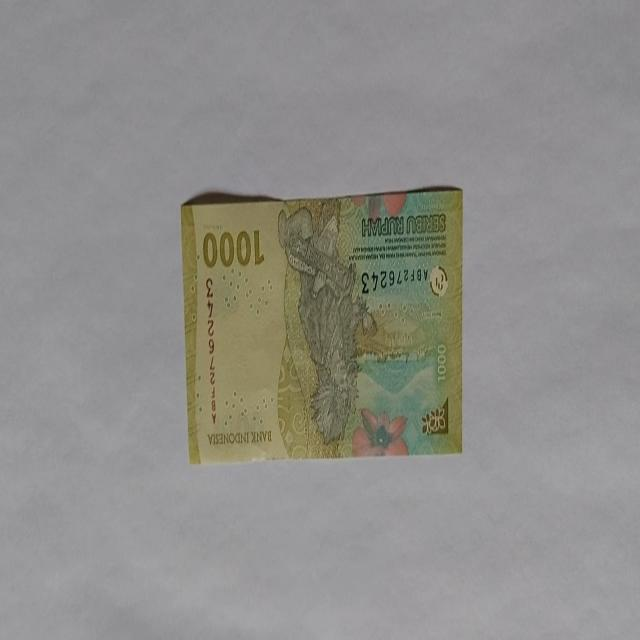seribu rupiah kertas: (180, 186, 463, 465)
